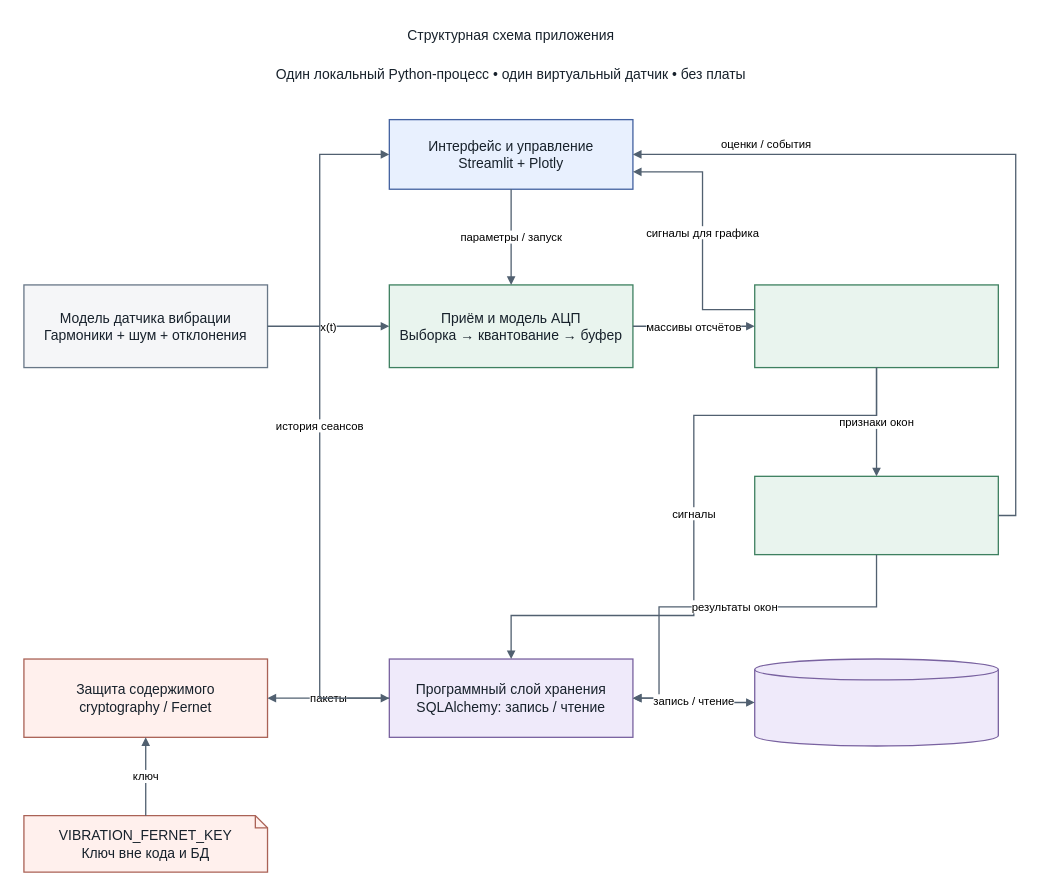
Some shapes in this 1038 by 887 pixel diagram are drawn without their labels. Here are the shapes that lost their labels. From the top down, the centre of each, then its label:
point (876, 326): Предварительная обработка EMA; окна и признаки до EMA
point (876, 515): Анализ окон Isolation Forest + RMS-порог
point (876, 702): SQLite 3 связанные таблицы
